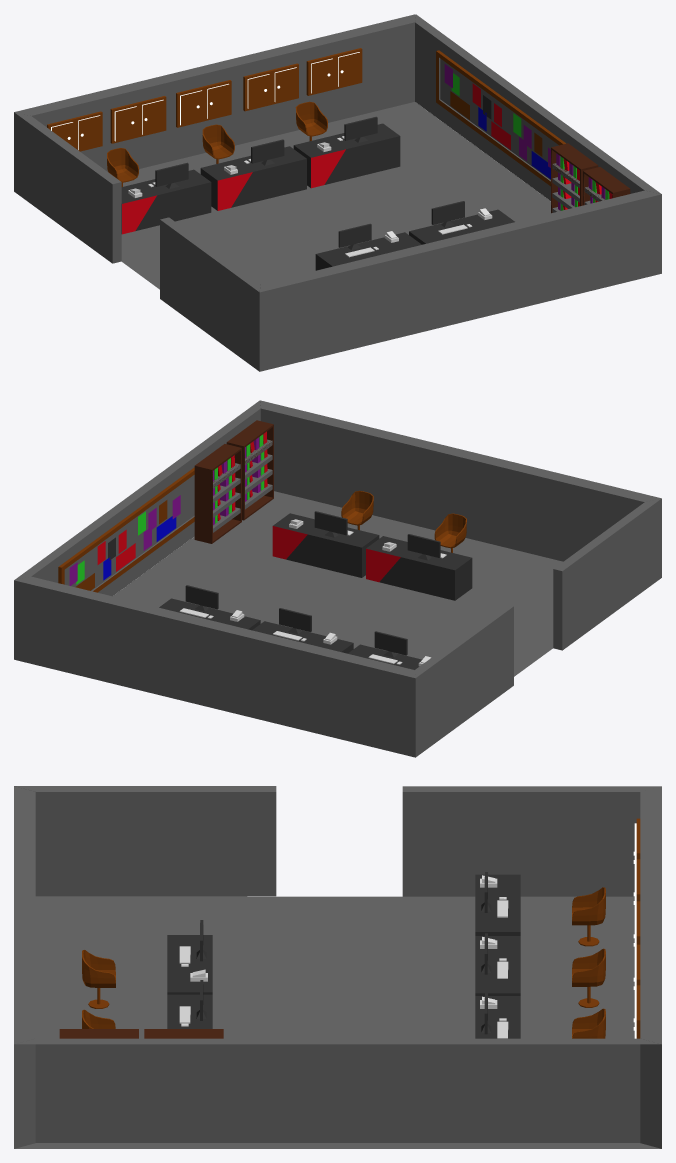
File: Level2.fbx
3 renders of one model, top to bottom at view 1: azimuth 30°, elevation 25°; view 2: azimuth 150°, elevation 25°; view 3: azimuth 270°, elevation 25°, orthographic. The views are drawn at different scales.
Parts seen in each view (by area): view 1: Cube.007, Plane.001, Cube.036, Cube.038, Cube.014, Cube.042, Cube.040, Cube.141, Cube.013, Cube.009, Cube.010, Cube.012 (+5 smaller); view 2: Cube.007, Plane.001, Cube.042, Cube.040, Cube.141, Cube.080, Cube.036, Cube.038, Cube.014, Cube.041, Cube.043; view 3: Cube.007, Cube.014, Cube.042, Cube.036, Cube.038, Cube.040, Cube.035, Cube.037, Cube.043, Cube.039, Cube.080, Cube.141.
Boxes of the visible parts, x1=… form: Cube.007: x1=14, y1=14, x2=661, y2=371; Plane.001: x1=436, y1=50, x2=565, y2=186; Cube.036: x1=200, y1=139, x2=306, y2=210; Cube.038: x1=293, y1=116, x2=400, y2=188; Cube.014: x1=121, y1=162, x2=211, y2=234; Cube.042: x1=315, y1=223, x2=421, y2=270; Cube.040: x1=409, y1=201, x2=514, y2=244; Cube.141: x1=551, y1=143, x2=598, y2=213; Cube.013: x1=306, y1=48, x2=362, y2=95; Cube.009: x1=110, y1=96, x2=166, y2=143; Cube.010: x1=176, y1=80, x2=231, y2=127; Cube.012: x1=243, y1=63, x2=298, y2=111; Cube.007: x1=14, y1=400, x2=661, y2=757; Plane.001: x1=58, y1=467, x2=194, y2=592; Cube.042: x1=366, y1=534, x2=472, y2=600; Cube.040: x1=272, y1=511, x2=379, y2=577; Cube.141: x1=194, y1=444, x2=241, y2=543; Cube.080: x1=226, y1=420, x2=273, y2=520; Cube.036: x1=252, y1=608, x2=353, y2=653; Cube.038: x1=159, y1=585, x2=260, y2=630; Cube.014: x1=348, y1=631, x2=431, y2=669; Cube.041: x1=341, y1=490, x2=373, y2=530; Cube.043: x1=434, y1=513, x2=466, y2=552; Cube.007: x1=14, y1=786, x2=661, y2=1148; Cube.014: x1=475, y1=872, x2=520, y2=935; Cube.042: x1=167, y1=920, x2=212, y2=994; Cube.036: x1=475, y1=933, x2=520, y2=995; Cube.038: x1=475, y1=993, x2=520, y2=1038; Cube.040: x1=167, y1=980, x2=212, y2=1028; Cube.035: x1=572, y1=887, x2=605, y2=946; Cube.037: x1=572, y1=948, x2=605, y2=1007; Cube.043: x1=82, y1=950, x2=115, y2=1008; Cube.039: x1=572, y1=1008, x2=605, y2=1038; Cube.080: x1=59, y1=1029, x2=138, y2=1038; Cube.141: x1=144, y1=1029, x2=223, y2=1038.
Size of the model in its own units: 6970 by 1333 by 7385.
